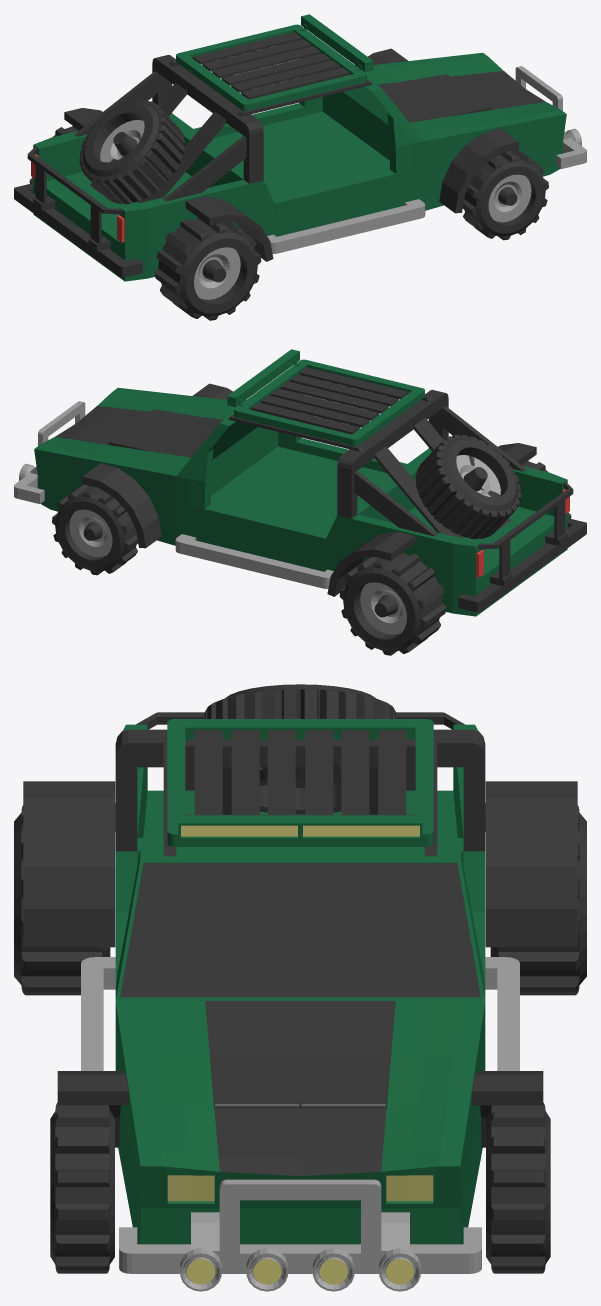
The model's file is DuneBuggy_Finished.fbx.
3 renders of one model, top to bottom at view 1: azimuth 30°, elevation 25°; view 2: azimuth 150°, elevation 25°; view 3: azimuth 270°, elevation 25°, orthographic. The views are drawn at different scales.
Parts seen in each view (by area): view 1: Body, Wheel_RR, Wheel_FR; view 2: Body, Wheel_RL, Wheel_FL; view 3: Body, Wheel_FR, Wheel_FL, Wheel_RR, Wheel_RL.
Part boxes in pixels (x1,y1,x2,y2): Body: (14,14,586,281); Wheel_RR: (154,217,261,320); Wheel_FR: (462,149,548,240); Body: (14,349,586,616); Wheel_RL: (339,552,446,655); Wheel_FL: (52,484,138,575); Body: (23,684,577,1291); Wheel_FR: (50,1103,114,1273); Wheel_FL: (486,1103,550,1273); Wheel_RR: (14,805,110,995); Wheel_RL: (490,805,586,995).
Size of the model in its own units: 190 by 354 by 126.
